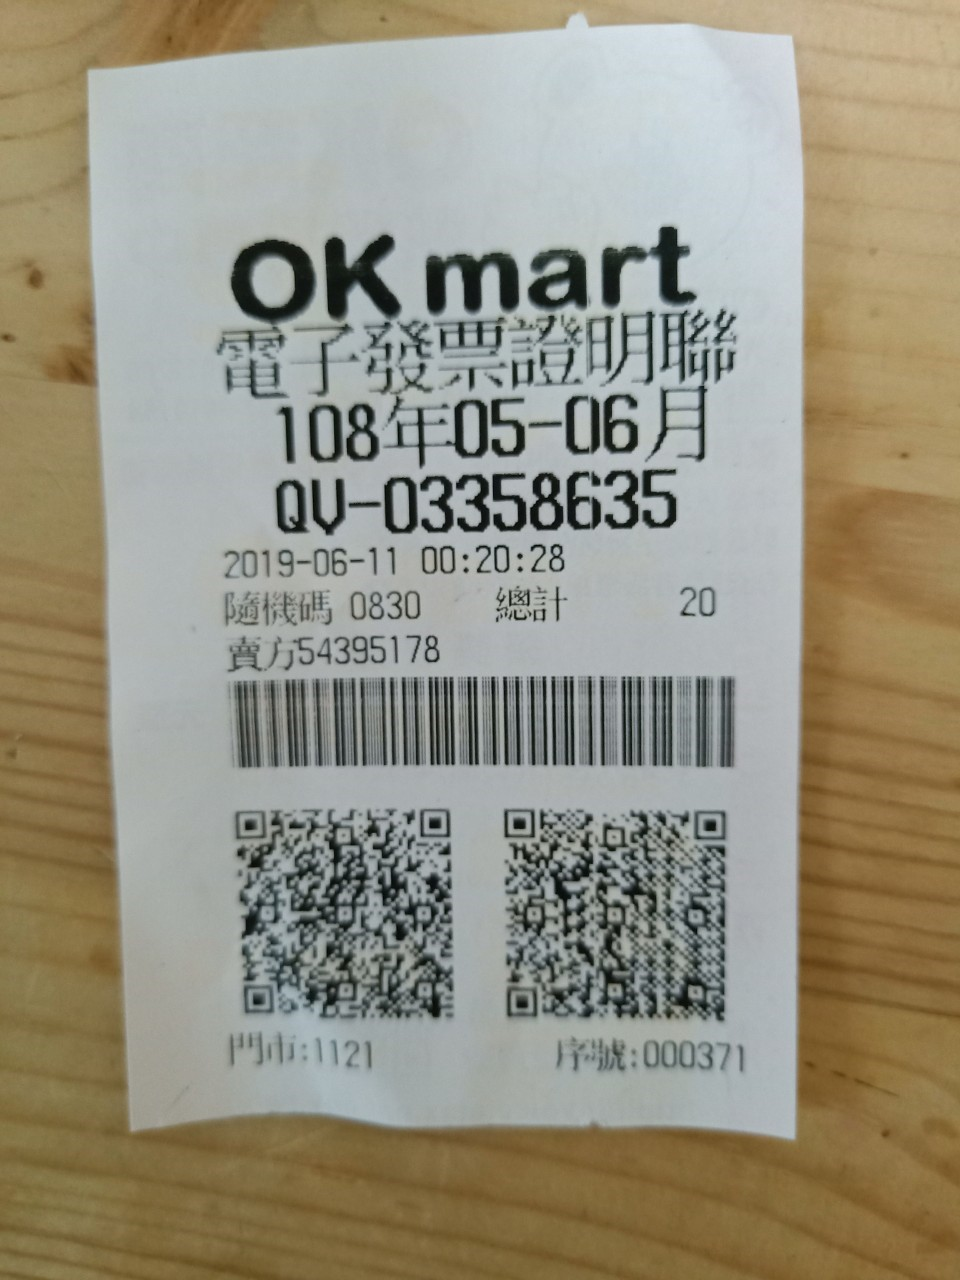Date_New: (270, 386, 713, 467)
Number_New: (381, 467, 677, 532)
